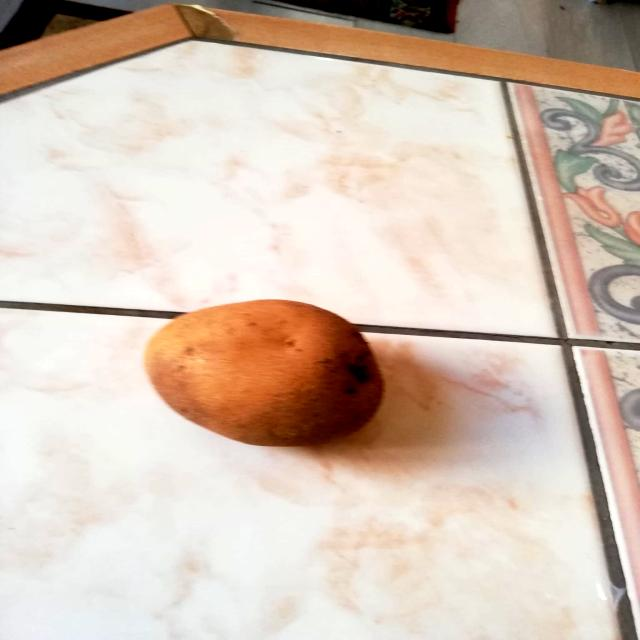potato: (136, 295, 395, 449)
